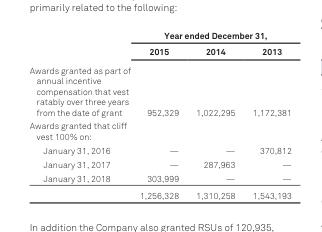table: (28, 29, 290, 200)
table column: (28, 29, 134, 200), (186, 29, 243, 200), (134, 29, 186, 200), (243, 29, 290, 200)
table column header: (28, 29, 290, 60)
table projected row header: (28, 118, 290, 142)
table row: (28, 60, 290, 118), (28, 118, 290, 142), (28, 42, 290, 60), (28, 170, 290, 186), (28, 142, 290, 156), (28, 156, 290, 170), (28, 186, 290, 200), (28, 29, 290, 42)
table spanning cell: (134, 29, 290, 42)
